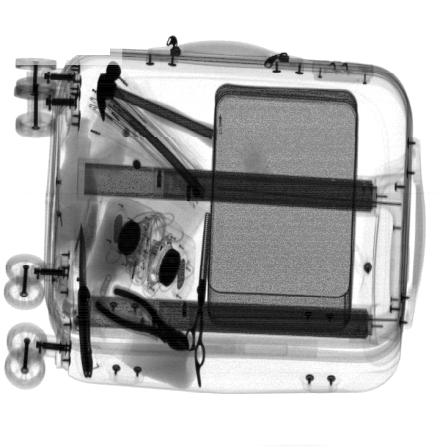Hammer: (95, 60, 215, 150)
Knife: (77, 222, 93, 380)
Pliers: (93, 286, 191, 352)
Scissors: (184, 211, 211, 388)
